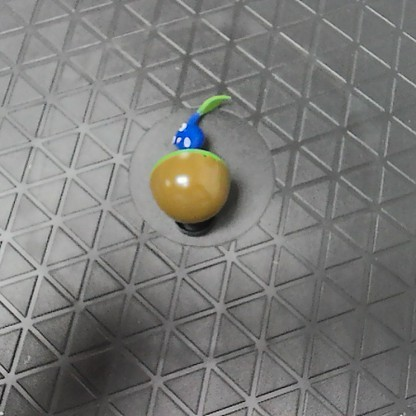leafairy: (150, 89, 234, 223)
